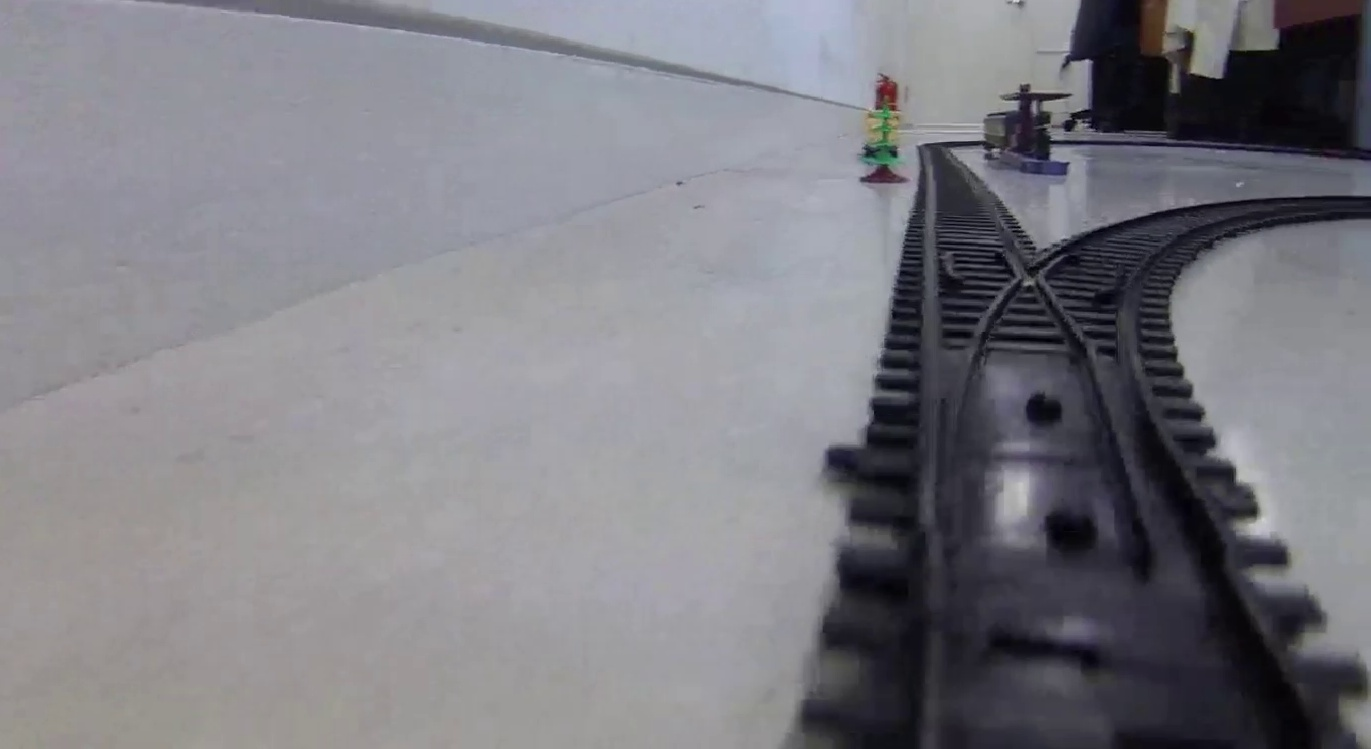tree: (859, 97, 910, 186)
